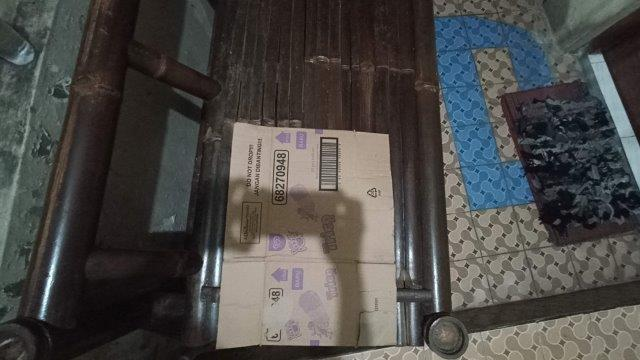kardus: (217, 125, 395, 345)
